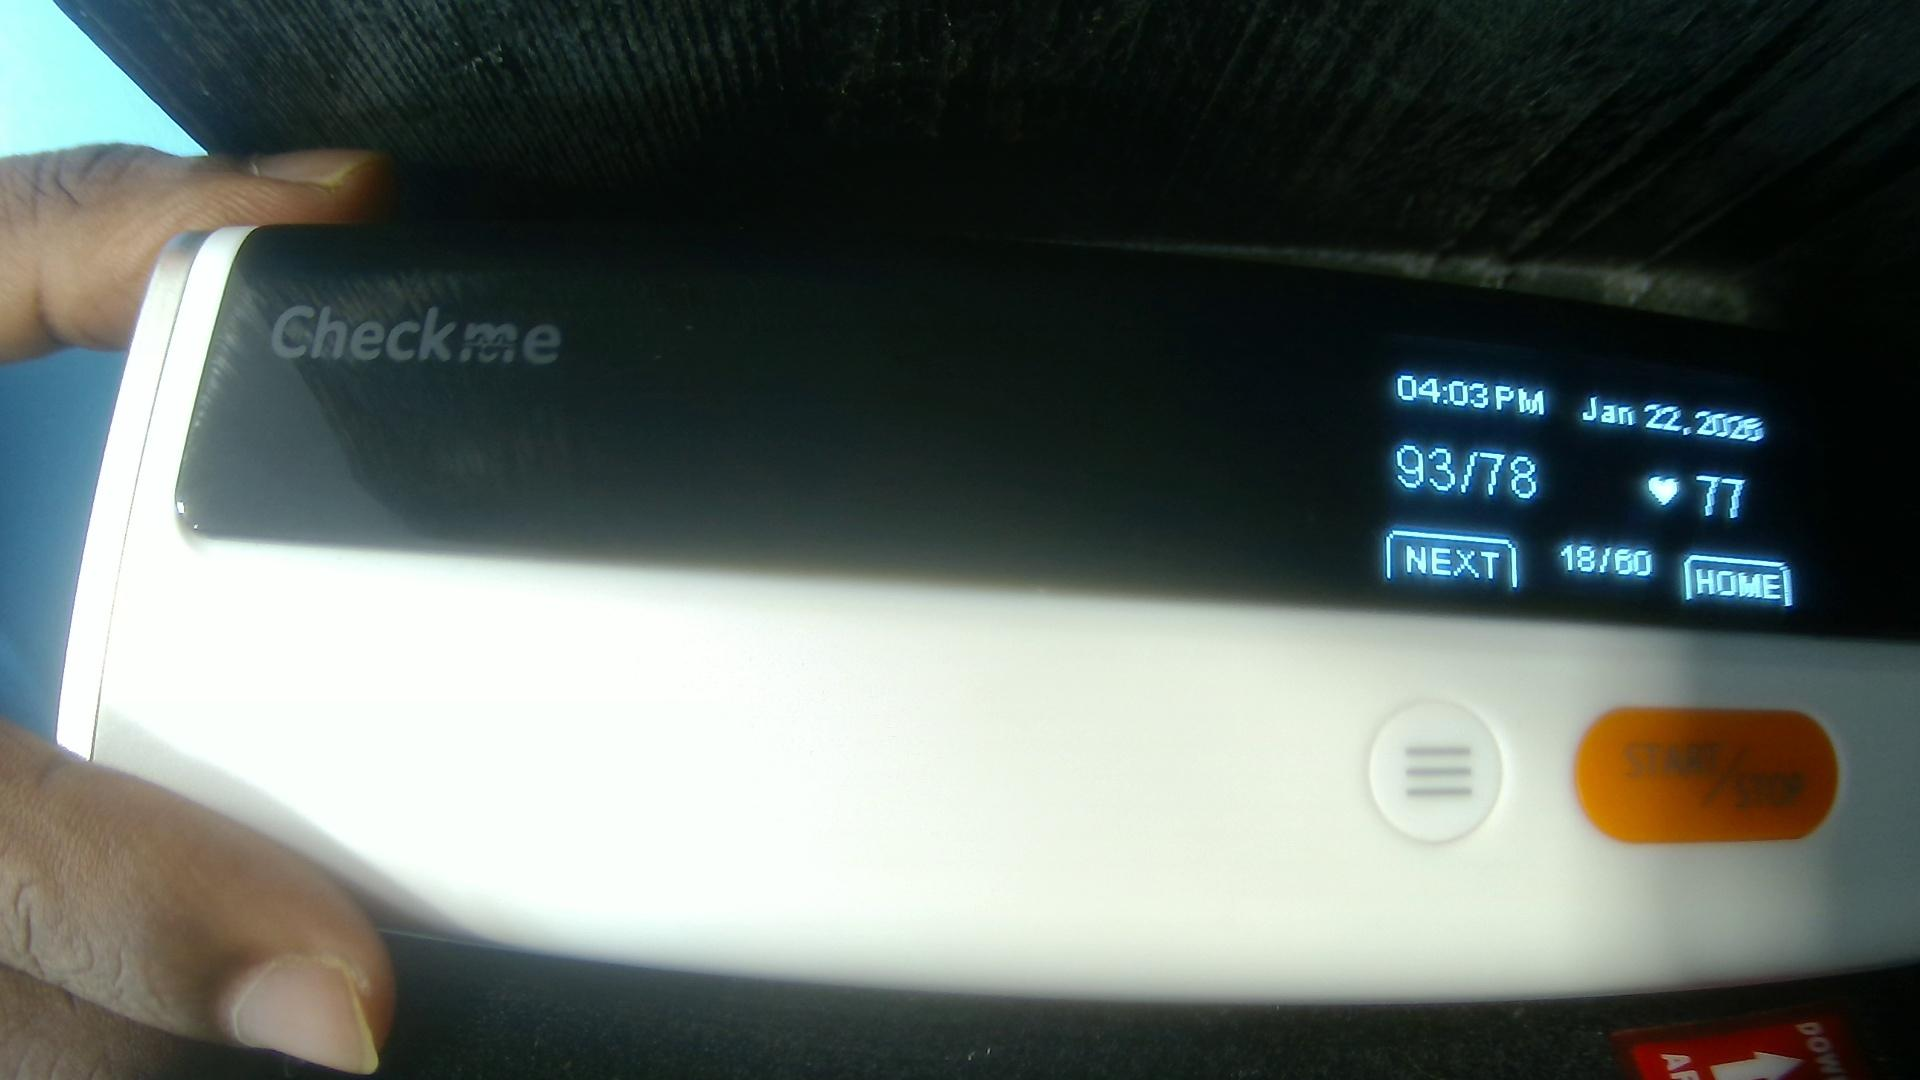DISPLAY: (194, 233, 1911, 622)
